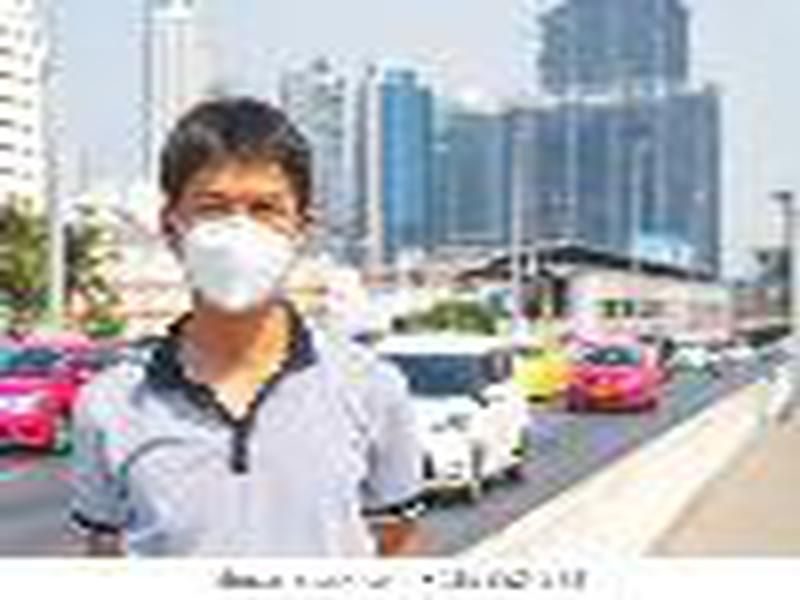with_mask: (174, 157, 308, 313)
